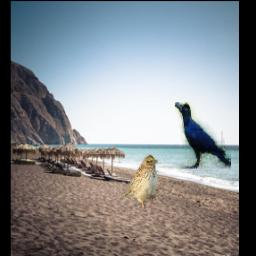Crow: (176, 103, 232, 170)
Sparrow: (121, 154, 159, 210)
